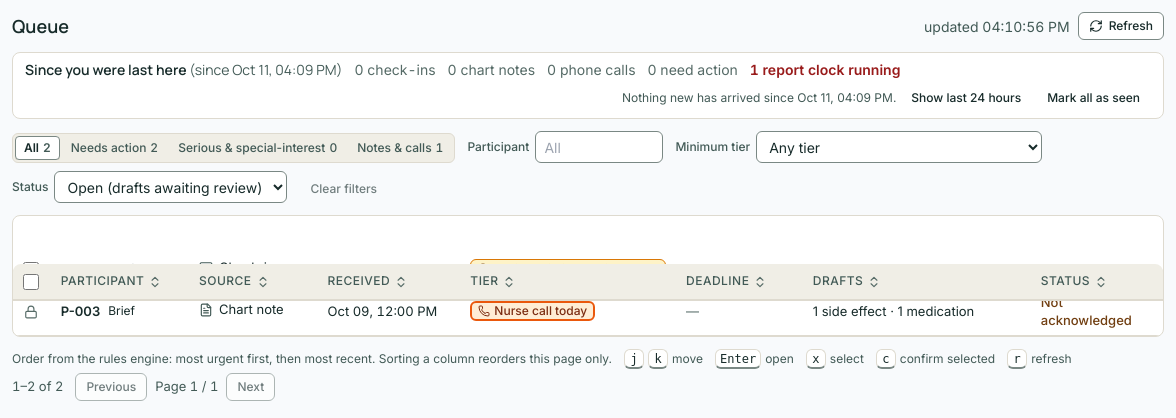
Test: Queue page: since you were last here › Show last 24 hours restores the overnight view after a later last-seen time
Expected: the list named "What is new" shows "0 check-ins", x1=354 y1=61 x2=436 y2=78
Expected: the text "Nothing new has arrived since Oct 11, 04:09 PM." is shown, x1=622 y1=90 x2=896 y2=106
Click the button "Show last 24 hours" at x=966, y=98, box x1=900 y1=84 x2=1032 y2=112
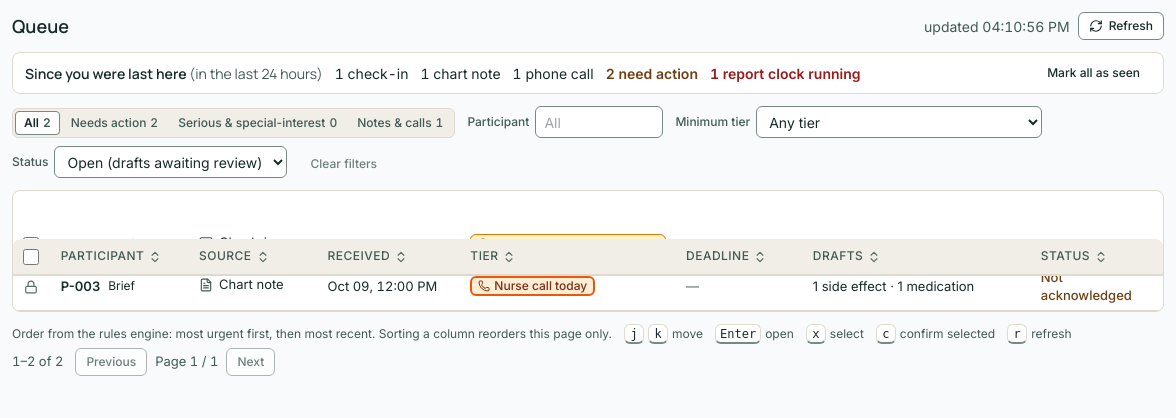
Expected: the list named "What is new" shows "1 check-in", x1=335 y1=64 x2=408 y2=82
Expected: the list named "What is new" shows "1 chart note", x1=420 y1=64 x2=501 y2=82
Expected: the list named "What is new" shows "1 phone call", x1=513 y1=64 x2=594 y2=82
